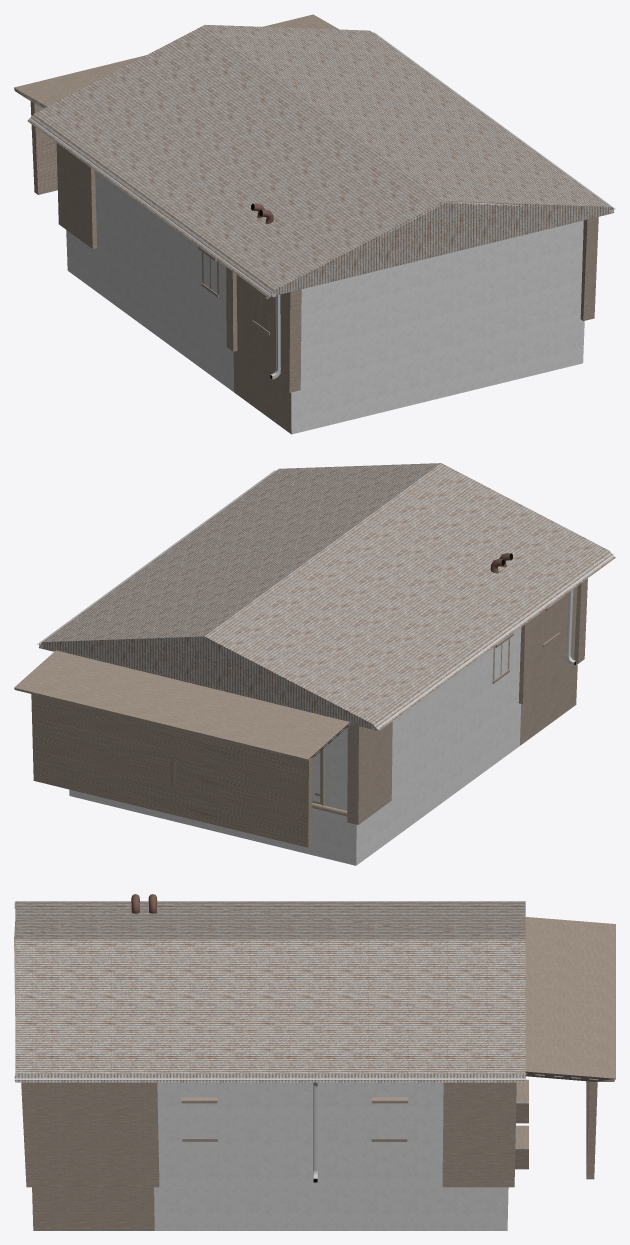
Rendered from si_big_shack.DAE.
The picture shows the model from 3 angles, top to bottom: view 1: azimuth 30°, elevation 25°; view 2: azimuth 150°, elevation 25°; view 3: azimuth 270°, elevation 25°; orthographic projection. The views are drawn at different scales.
Parts seen in each view (by area): view 1: Colmesh-1, si_big_shack400; view 2: Colmesh-1, si_big_shack400; view 3: Colmesh-1, si_big_shack400.
Part boxes in pixels (<box>): Colmesh-1: <box>14,14,614,434</box>; si_big_shack400: <box>23,32,615,379</box>; Colmesh-1: <box>14,463,615,865</box>; si_big_shack400: <box>31,470,613,816</box>; Colmesh-1: <box>15,901,615,1230</box>; si_big_shack400: <box>14,894,598,1182</box>.
Bounding box in the file's own units: 1074 × 1521 × 603.
